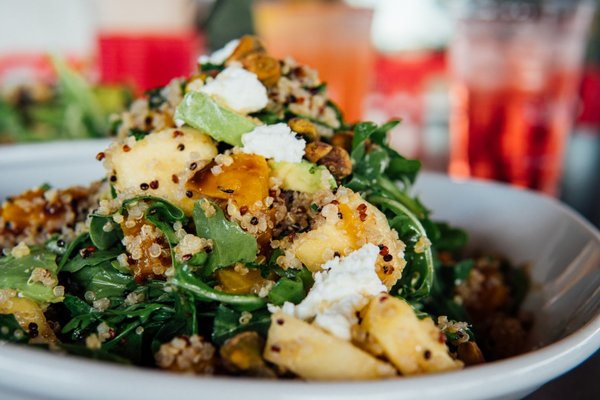pizza: (444, 5, 594, 197)
sushi: (31, 161, 600, 395)
